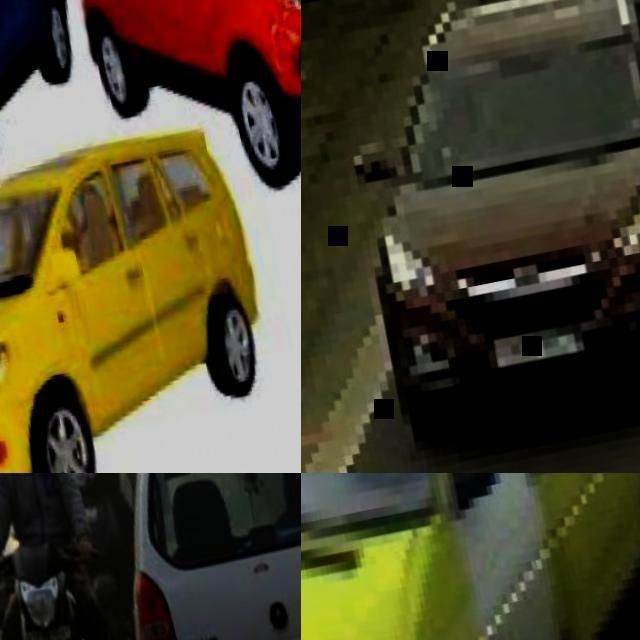car: (369, 0, 640, 442), (1, 15, 257, 472), (1, 470, 115, 639)
